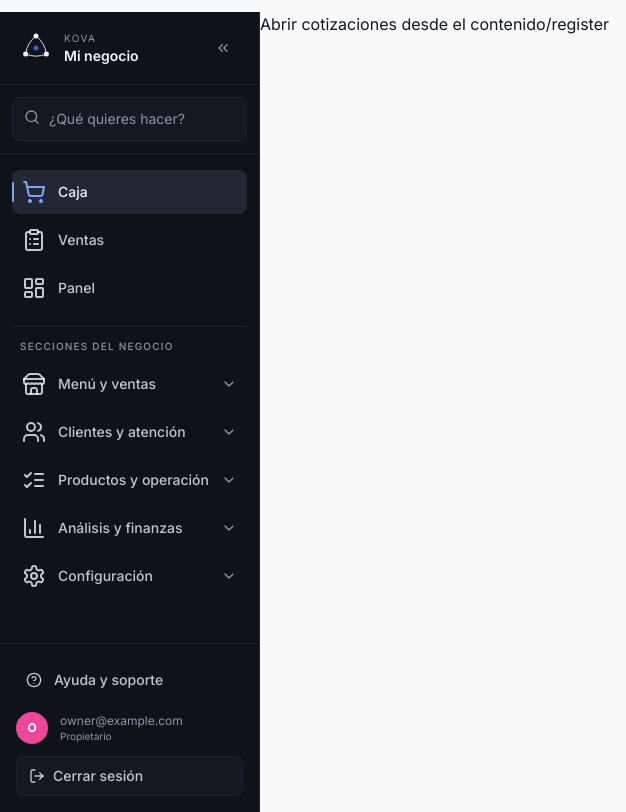
Test: simple task navigation and complete discovery › finds an owner's task without more requests or changing rail preferences
Type "compartir productos" into the search field named "Buscar sección" at x=130, y=119, box [12,97,247,141]
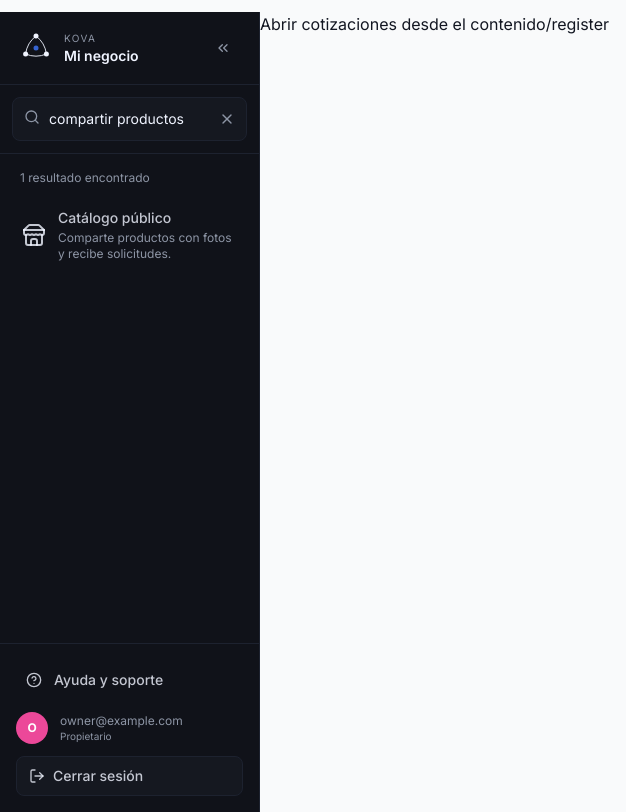
expect the message reads "1 resultado encontrado": met, box [20,170,150,185]
Click the button named "Limpiar búsqueda de secciones" at x=227, y=119, box [207,97,247,141]
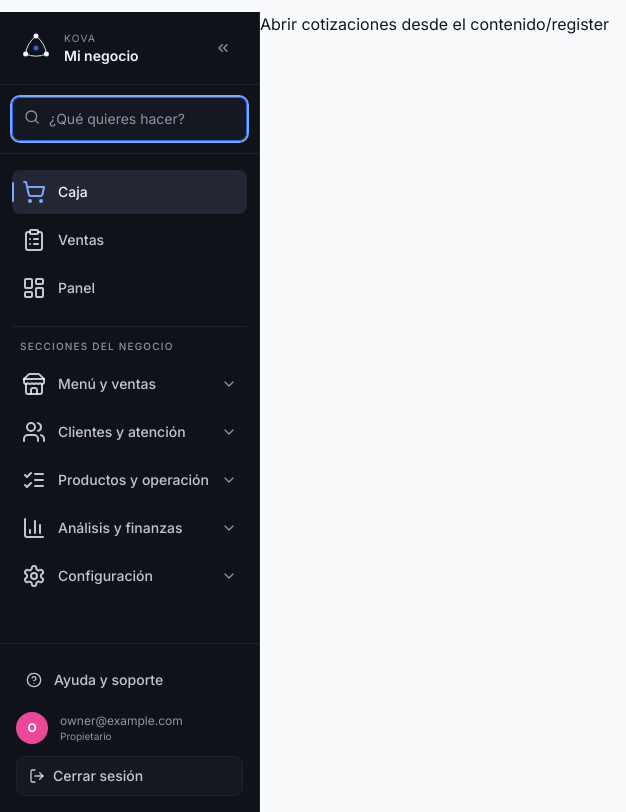
expect the button "Productos y operación" is shown: met, box [12,458,247,502]
